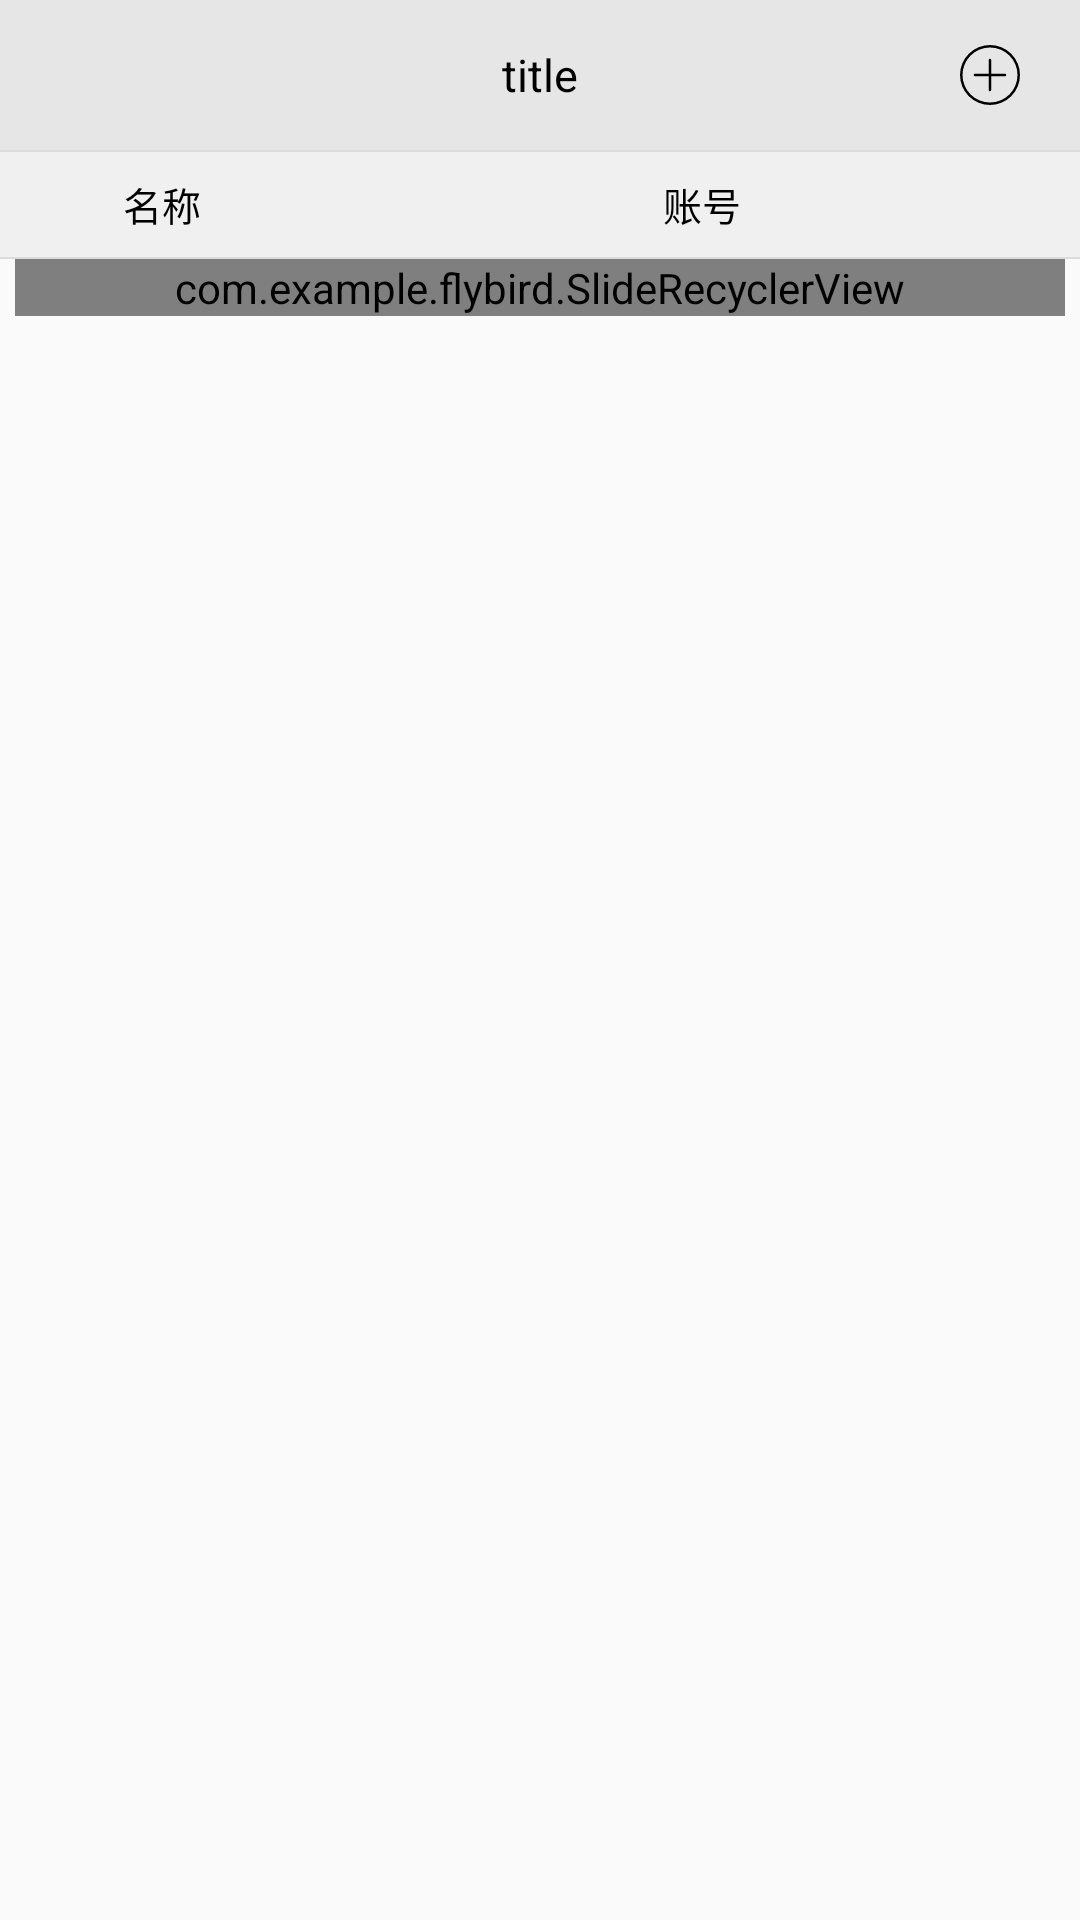

Screen size 1080×1920. Icon name, then its center in pixels as [x,y]:
add: [990,75]
